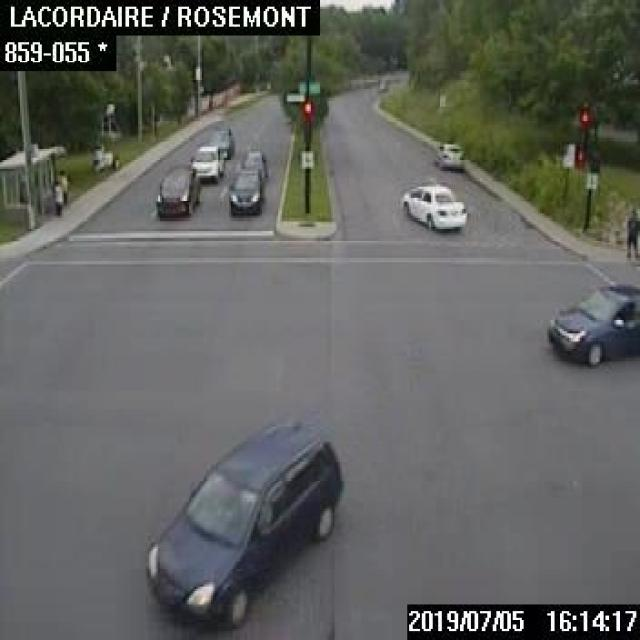pedestrian: (625, 209, 638, 256), (52, 179, 62, 215), (56, 168, 66, 203)
vehicle: (143, 420, 342, 626), (545, 283, 638, 364), (400, 183, 466, 230), (154, 164, 198, 216), (188, 143, 224, 180), (227, 174, 259, 214), (434, 143, 463, 168), (210, 126, 232, 156), (242, 149, 266, 175), (376, 78, 386, 88)
